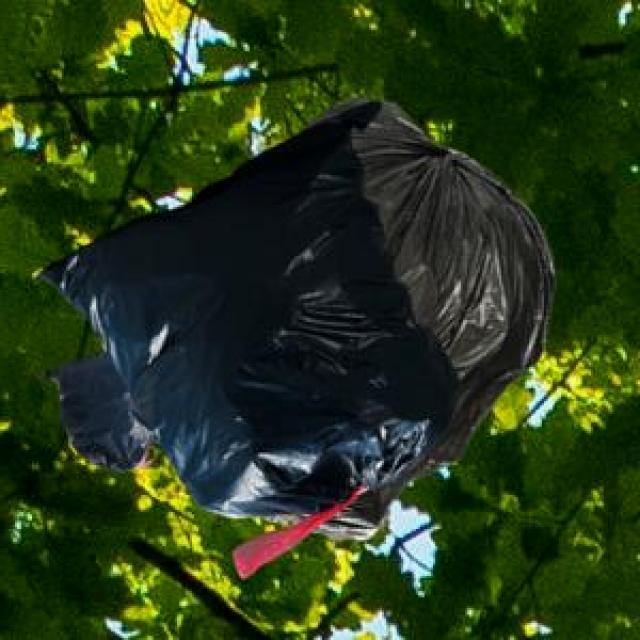Trashbag: (26, 97, 452, 524)
